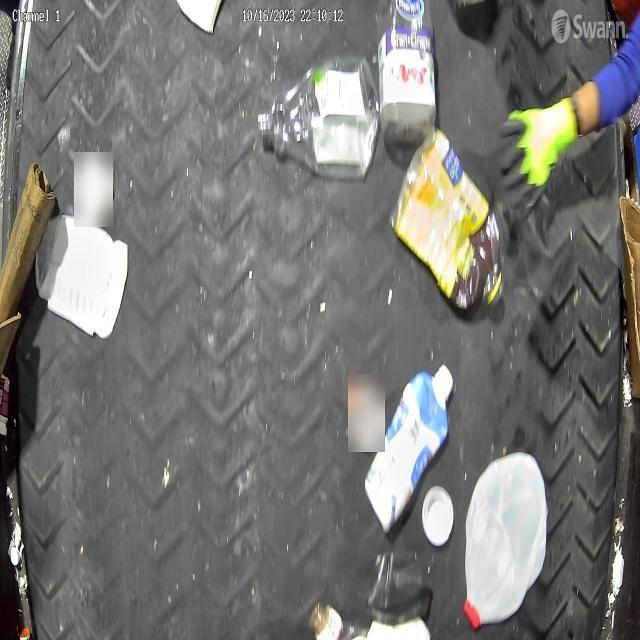milk_jug: (460, 451, 548, 631)
plastic_bottle: (255, 58, 378, 176), (378, 4, 438, 145)
